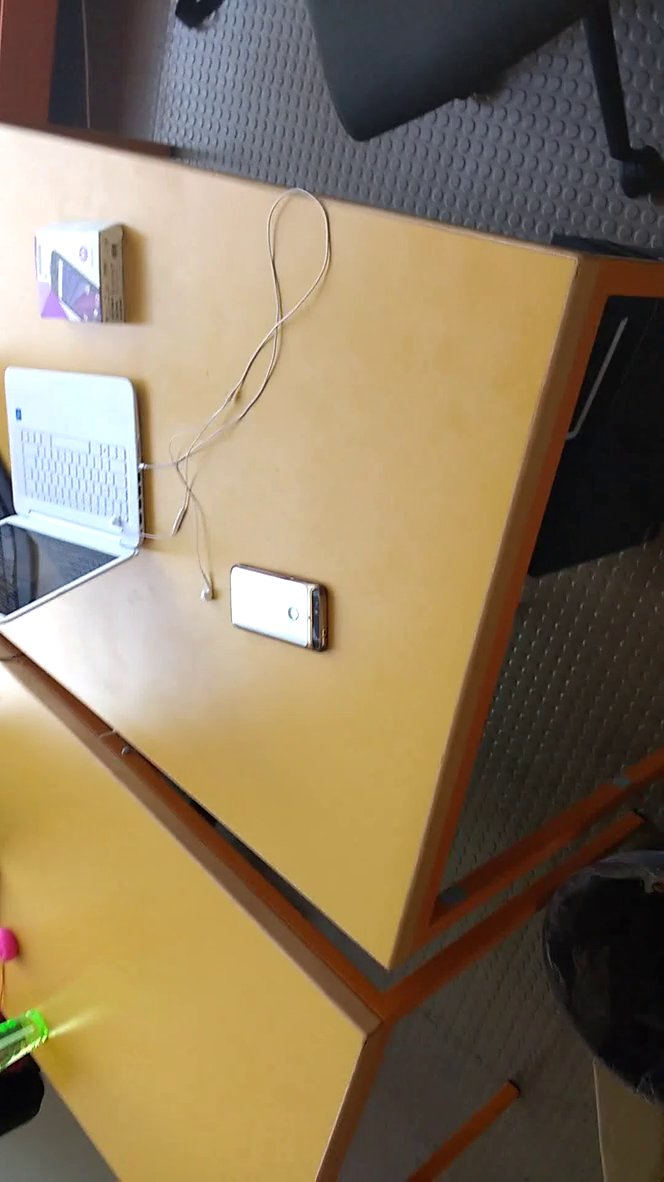phone: (219, 550, 343, 664)
